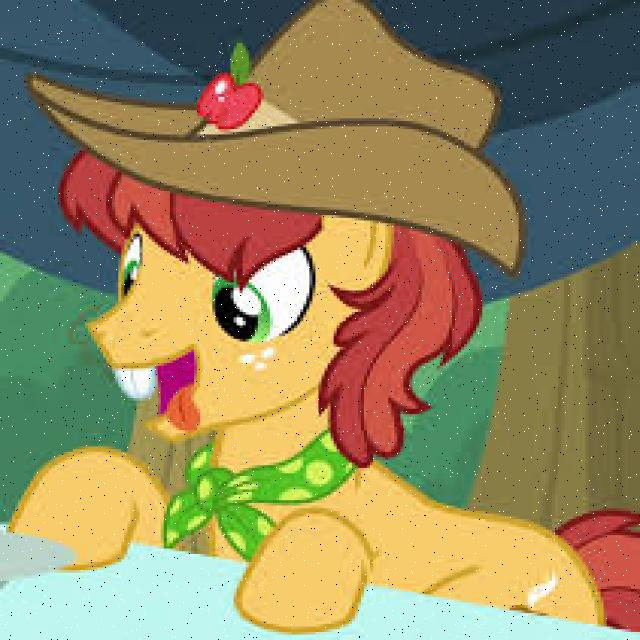Apple: (206, 65, 250, 127)
